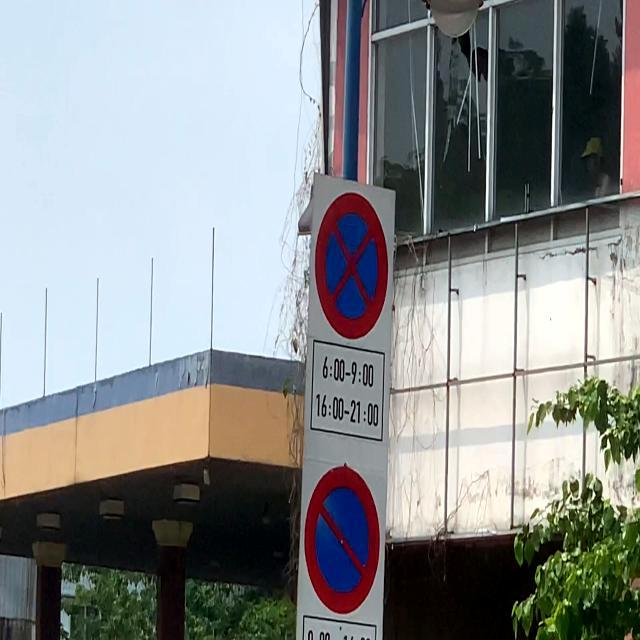Cam do xe: (304, 466, 382, 615)
Cam dung xe va do xe: (314, 192, 389, 341)
